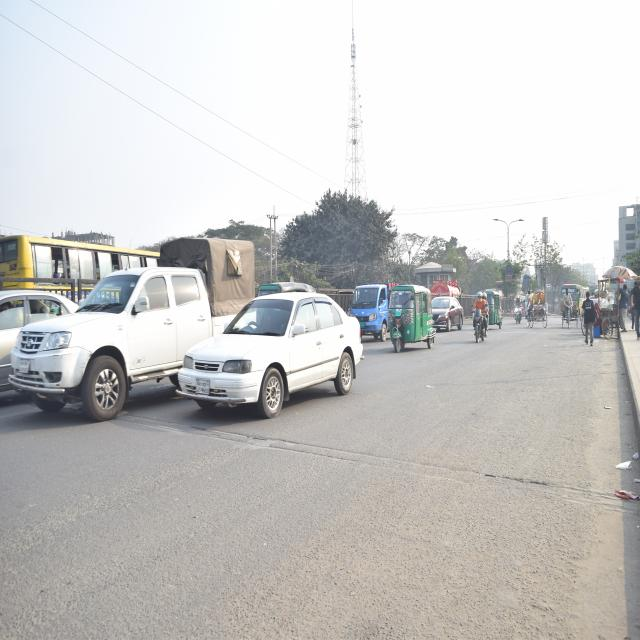bus: (560, 281, 590, 314)
car: (14, 266, 189, 418), (184, 292, 363, 428), (0, 290, 50, 407), (435, 296, 463, 334)
motorbike: (468, 298, 489, 344), (509, 294, 526, 324)
pickup-van: (354, 279, 392, 344)
